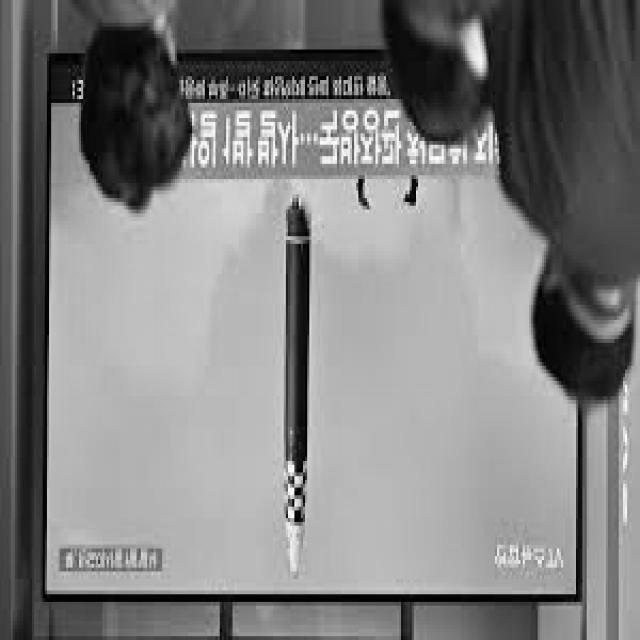Missile: (280, 194, 315, 598)
